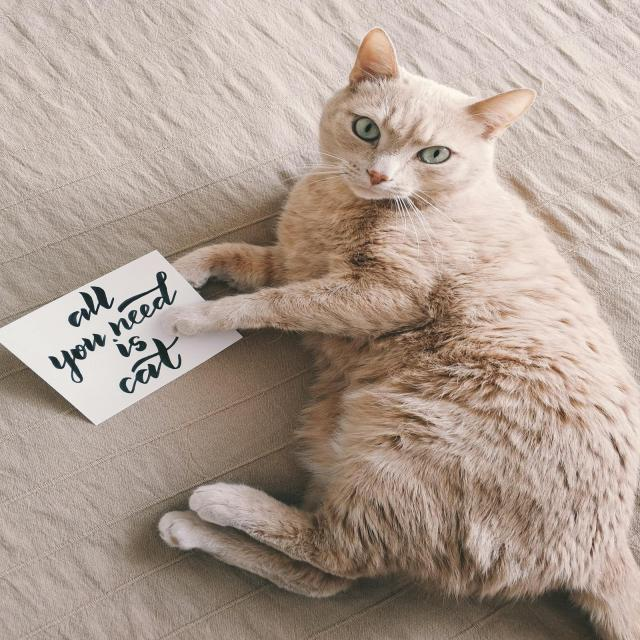Cat: (156, 26, 639, 638)
